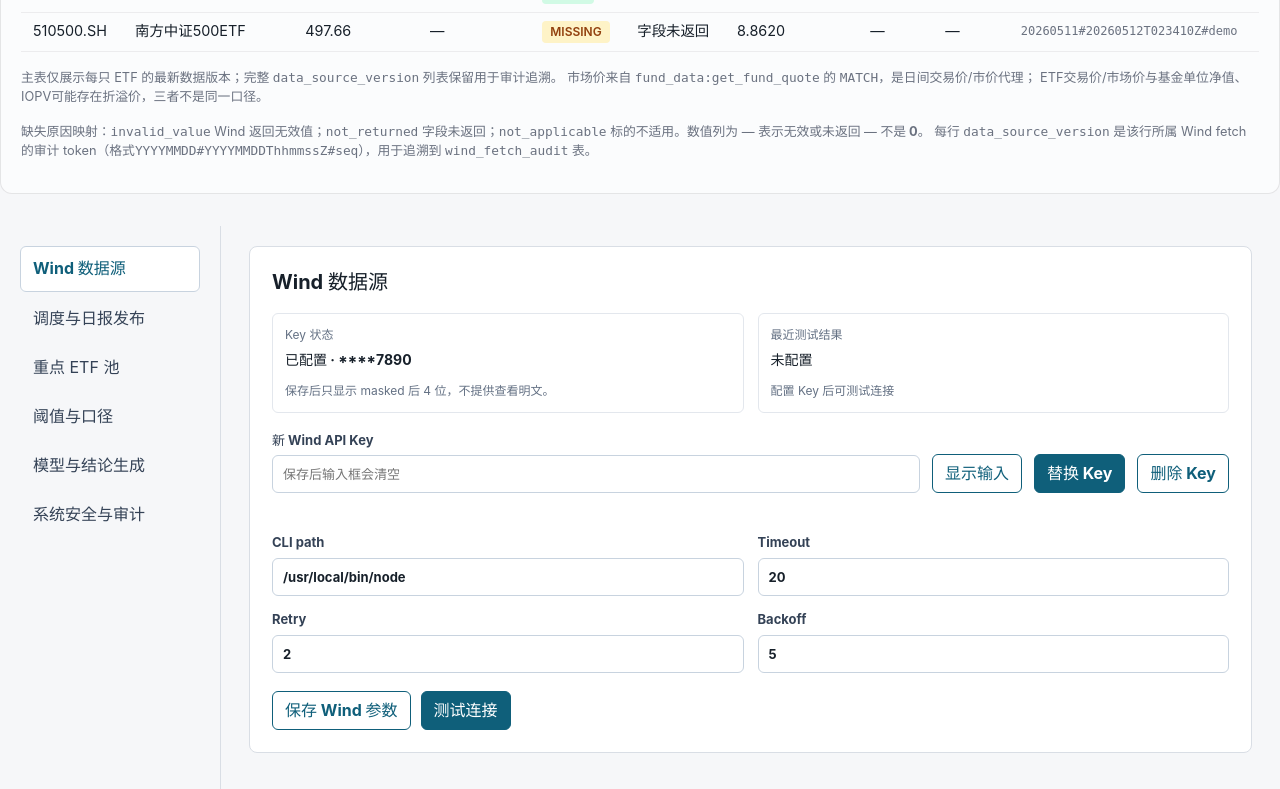
Test: config page › shows delete failure feedback without exposing key material
(page scrolled)
Expected: the text "已配置 · ****7890" is shown, [285, 351, 412, 368]
Click the button "删除 Key" at coordinates (1183, 474), box [1138, 454, 1229, 493]
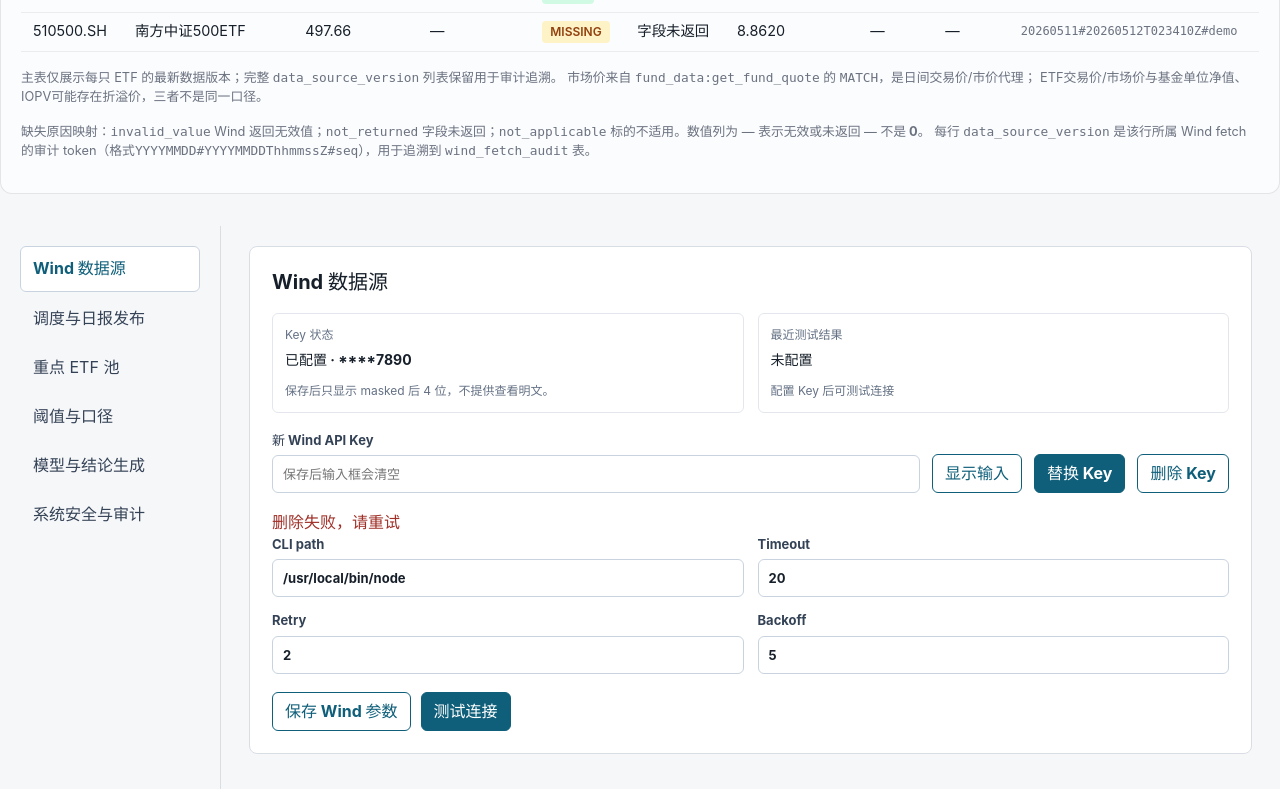
Result: the text "删除失败，请重试" is shown at [272, 511, 400, 535]
